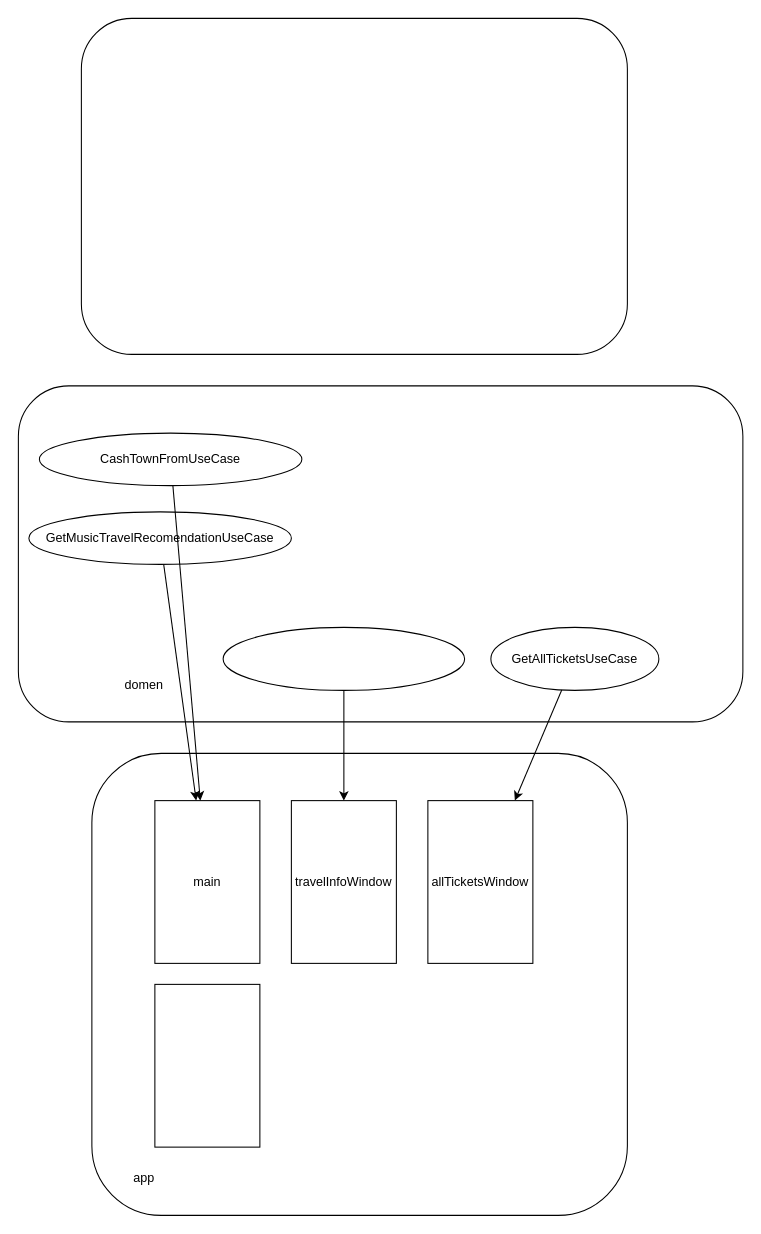
This 761x1234 diagram has some shape labels left out. The shapes that lost their labels are listed below. From the top down, each one's centre as x and y in pixels, then its label:
point (353, 185): r epository
point (343, 658): GetRecomendationTickets UseCase
point (207, 1065): modalWindow
